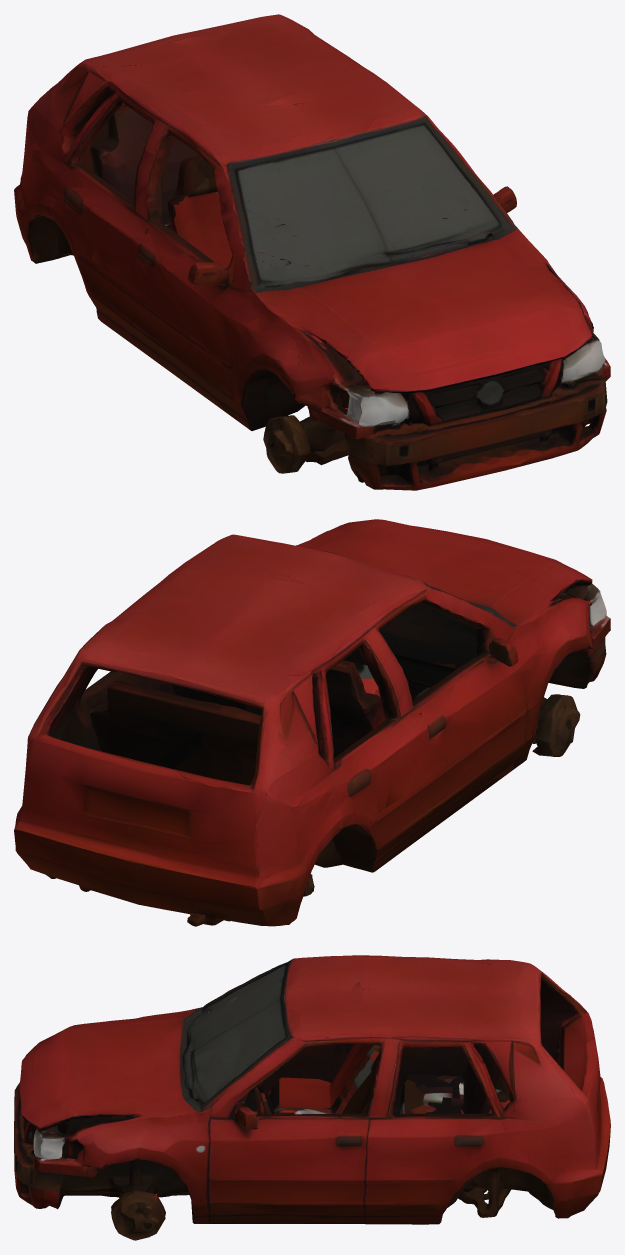
The model's file is Car2.fbx.
3 views of the same model, one above another, from view 1: azimuth 30°, elevation 25°; view 2: azimuth 150°, elevation 25°; view 3: azimuth 270°, elevation 25° (orthographic). The views are drawn at different scales.
Parts seen in each view (by area): view 1: textured_mesh.obj.001; view 2: textured_mesh.obj.001; view 3: textured_mesh.obj.001.
Boxes of the visible parts, x1,y1,x2,y2 form: textured_mesh.obj.001: (14, 14, 610, 490); textured_mesh.obj.001: (14, 519, 610, 926); textured_mesh.obj.001: (14, 955, 610, 1240).
Bounding box in the file's own units: 308 × 221 × 607.
